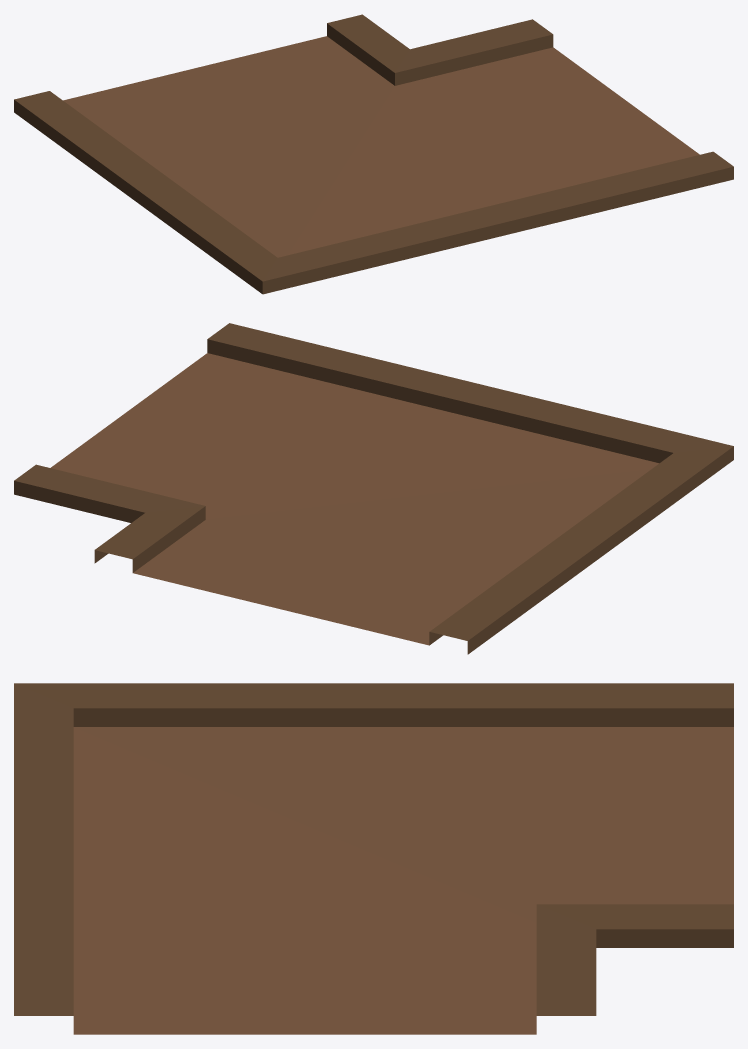
Rendered from Pavement Tile_2.fbx.
3 renders of one model, top to bottom at view 1: azimuth 30°, elevation 25°; view 2: azimuth 150°, elevation 25°; view 3: azimuth 270°, elevation 25°, orthographic. The views are drawn at different scales.
Visible parts, largest first — view 1: Pavement Tile_2; view 2: Pavement Tile_2; view 3: Pavement Tile_2.
Boxes of the visible parts, box(x1,y1,x2,y2) form: Pavement Tile_2: box(14, 14, 733, 294); Pavement Tile_2: box(14, 323, 733, 654); Pavement Tile_2: box(14, 683, 733, 1034).
Size of the model in its own units: 476 by 12.45 by 435.
